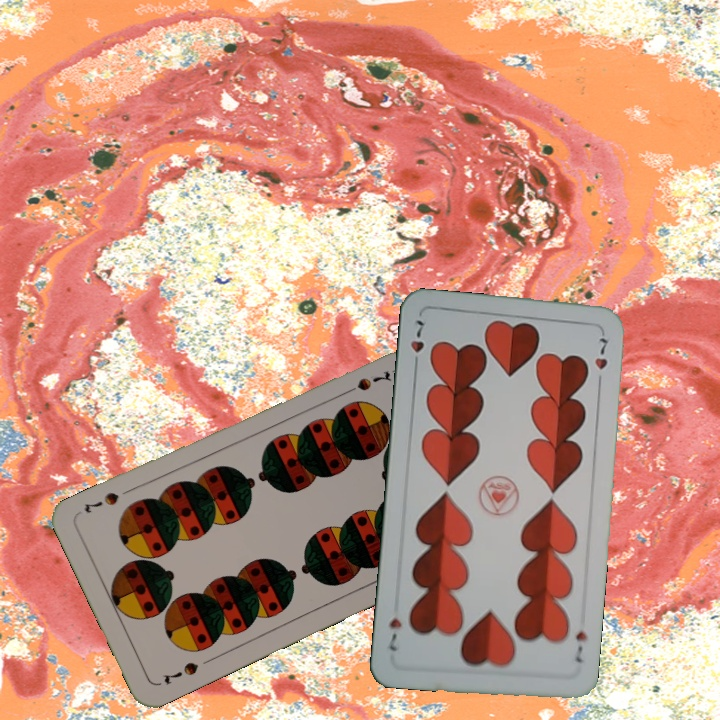H7: (407, 316, 427, 372), (570, 627, 590, 665)
S7: (338, 367, 394, 398), (159, 657, 201, 687)
